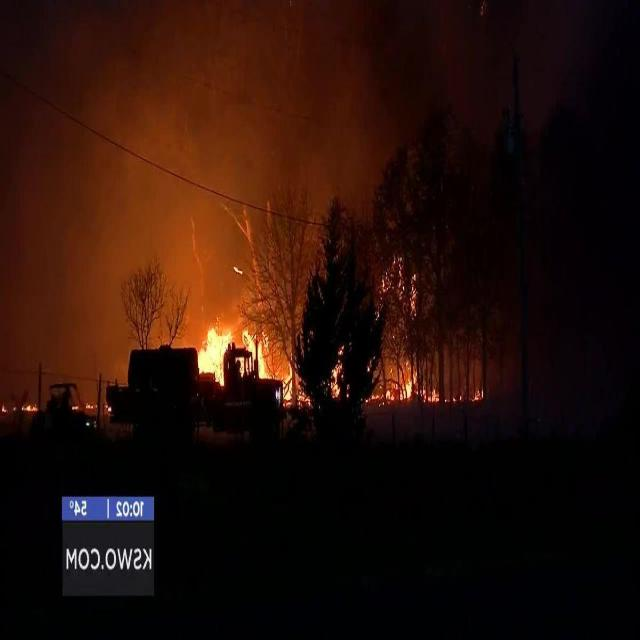Fire: (197, 321, 233, 386), (236, 325, 274, 381), (280, 362, 294, 406), (398, 371, 416, 400), (366, 385, 393, 403), (419, 383, 438, 403), (20, 399, 39, 414), (469, 389, 485, 402), (2, 401, 9, 415), (86, 401, 94, 412)
